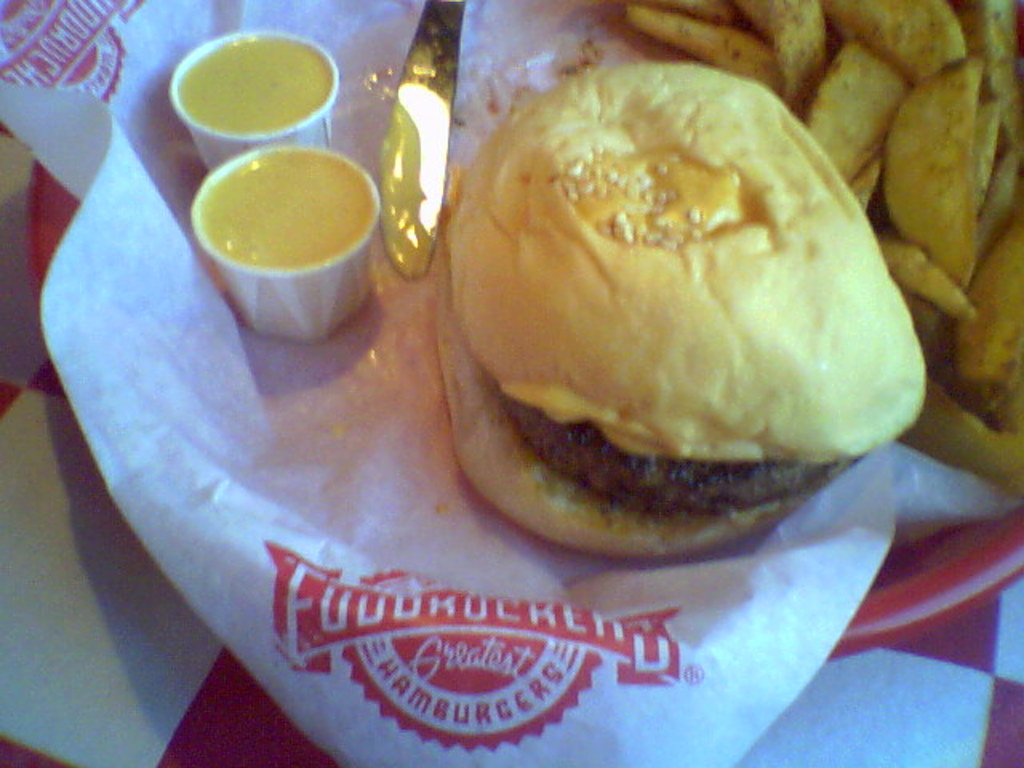Hamburger: (430, 62, 924, 558)
